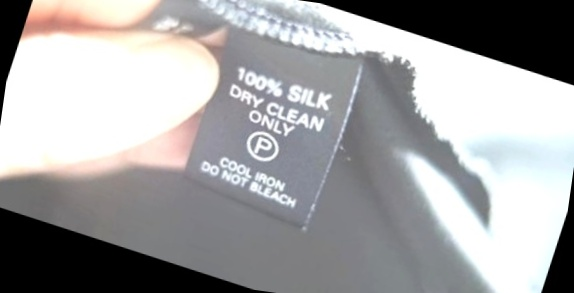dry_clean_any_solvent_except_trichloroethylene: (242, 126, 286, 166)
